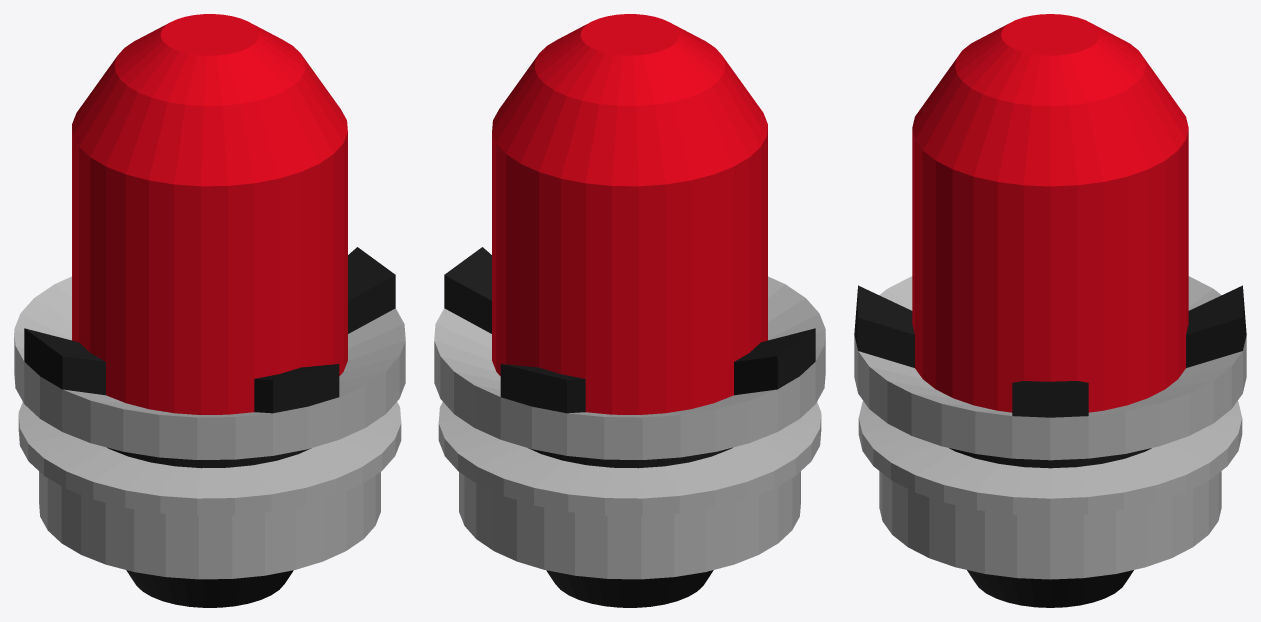
File: Alarm_Light_01.fbx
The picture shows the model from 3 angles, left to right: view 1: azimuth 30°, elevation 25°; view 2: azimuth 150°, elevation 25°; view 3: azimuth 270°, elevation 25°; orthographic projection.
Visible parts, largest first — view 1: Alarm_Light_01; view 2: Alarm_Light_01; view 3: Alarm_Light_01.
Boxes of the visible parts, x1,y1,x2,y2 form: Alarm_Light_01: (14,14,405,607); Alarm_Light_01: (434,14,825,607); Alarm_Light_01: (854,14,1246,607).
Bounding box in the file's own units: 77.16 × 117 × 77.16.
